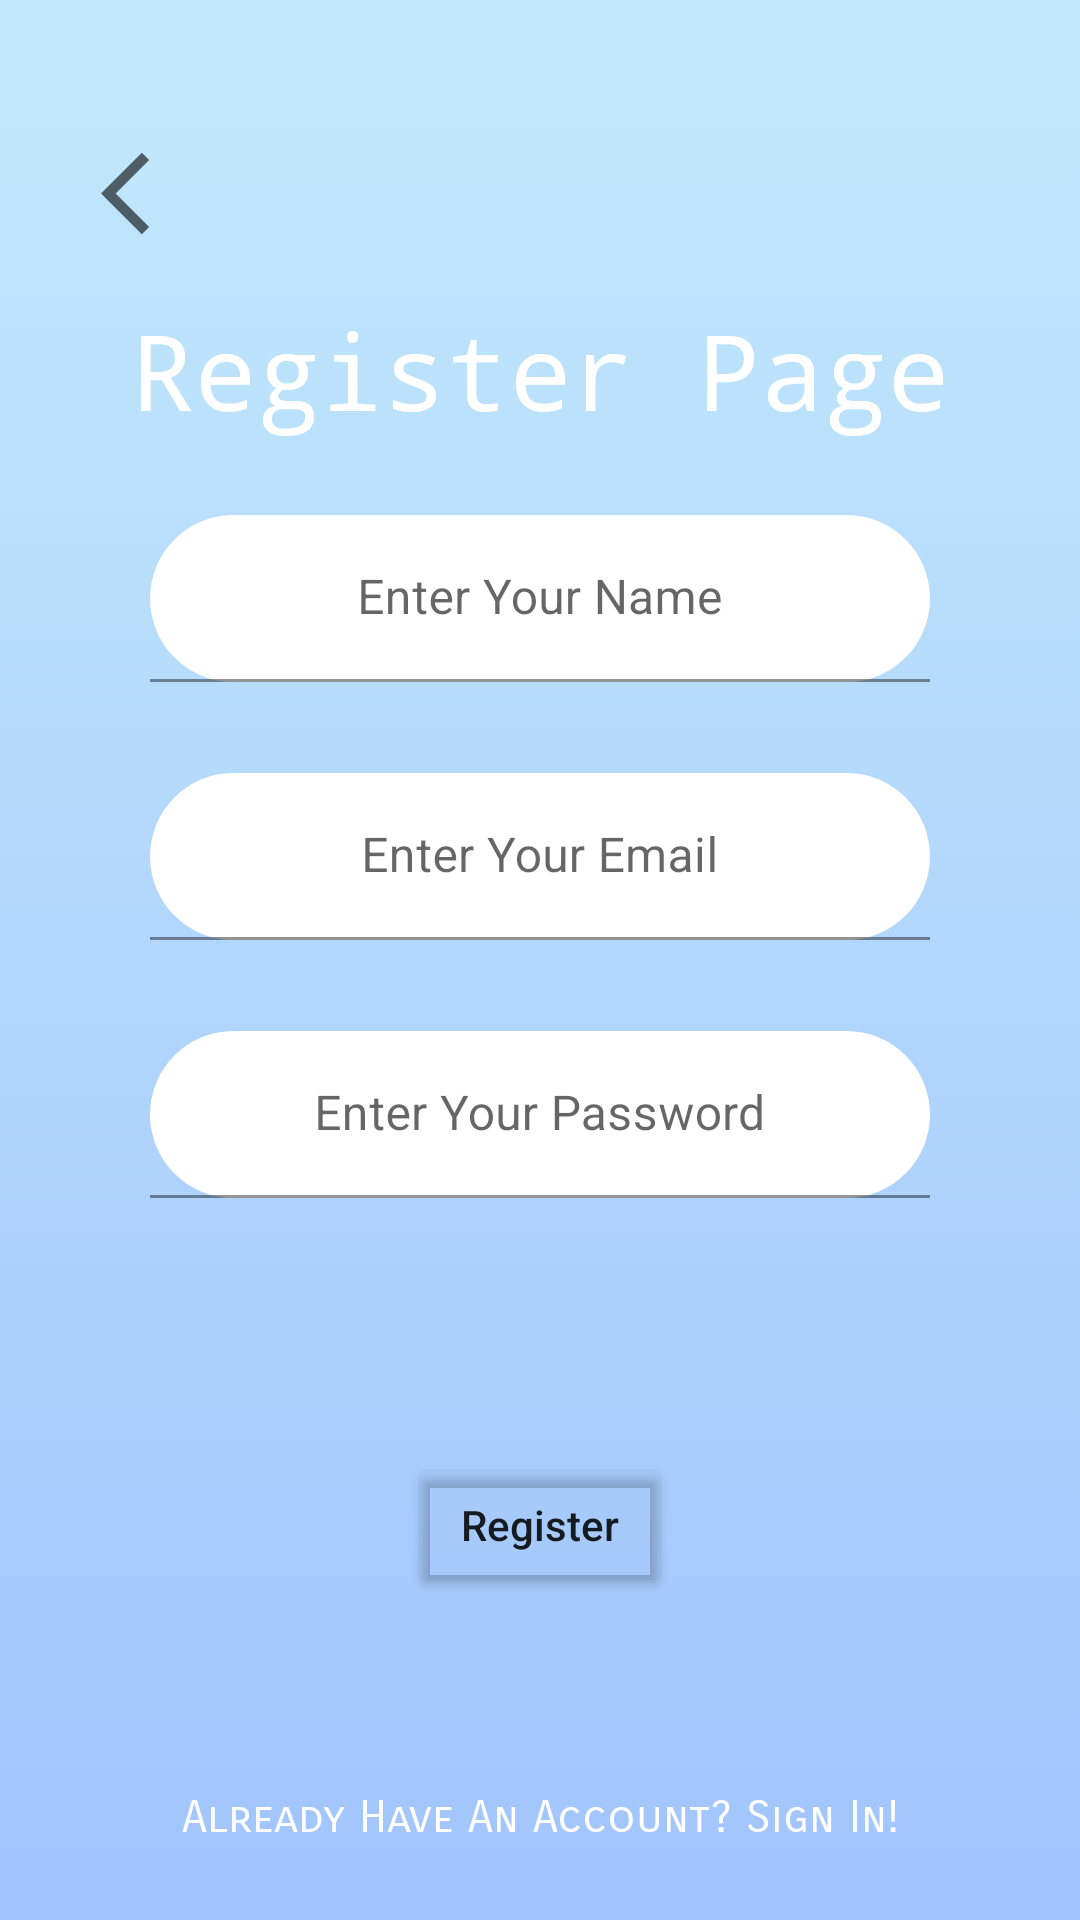

Icon click points for this 1080*1920 phone screenshot, format [x,y]:
arrow back: [125,193]
